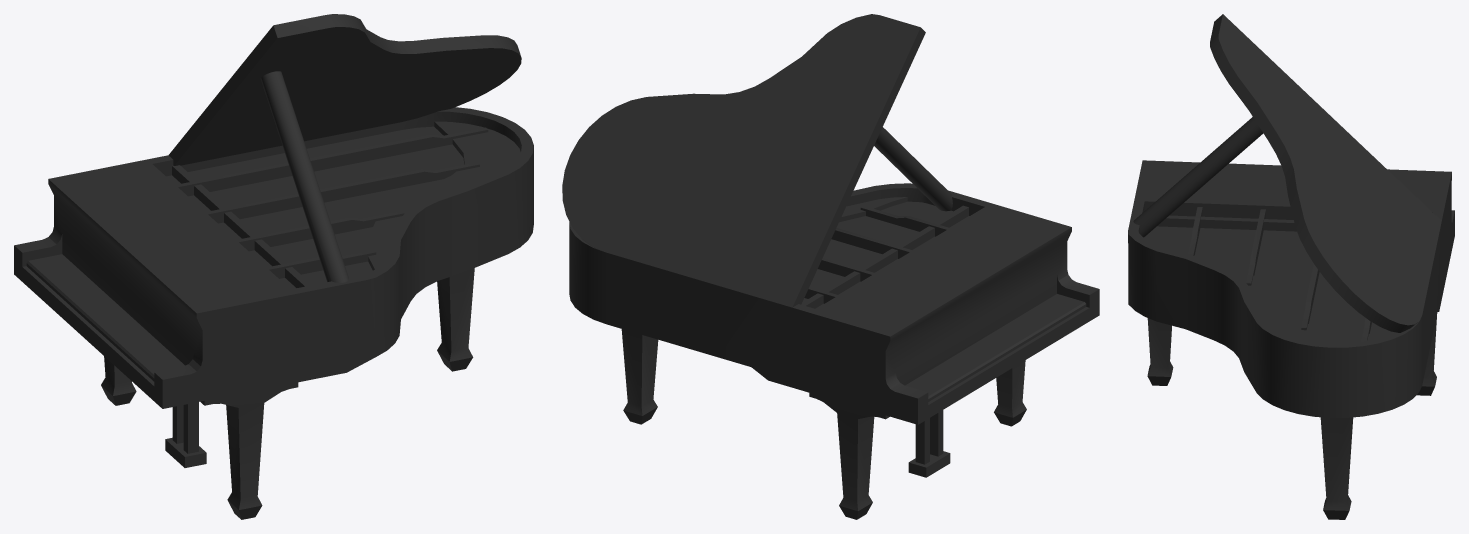
Rendered from piano_3d.glb.
3 views of the same model, side by side, from view 1: azimuth 30°, elevation 25°; view 2: azimuth 150°, elevation 25°; view 3: azimuth 270°, elevation 25° (orthographic). The views are drawn at different scales.
Visible parts, largest first — view 1: node_id36; view 2: node_id36; view 3: node_id36.
Boxes of the visible parts, x1,y1,x2,y2 form: node_id36: [14, 14, 533, 519]; node_id36: [562, 14, 1099, 519]; node_id36: [1128, 14, 1454, 519].
Bounding box in the file's own units: 0.512 × 0.4681 × 0.3495.
Materials: 1 (1 with a texture image).
